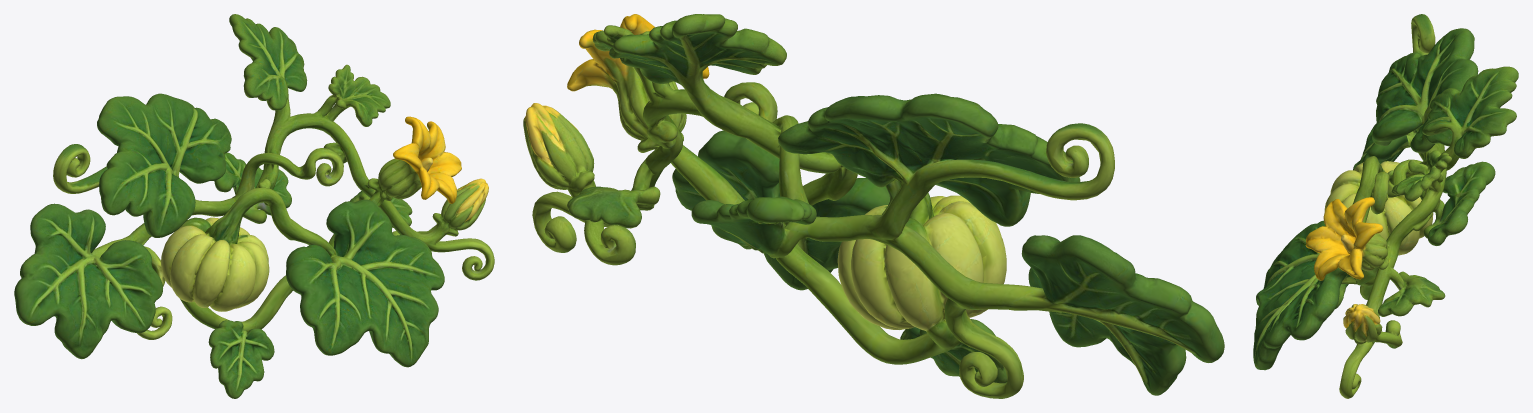
File: pumpkin-growing.glb
3 views of the same model, side by side, from view 1: azimuth 30°, elevation 25°; view 2: azimuth 150°, elevation 25°; view 3: azimuth 270°, elevation 25° (orthographic). The views are drawn at different scales.
Bounding box in the file's own units: 1.9 × 1.15 × 0.9479.
1 material, 1 textured.
